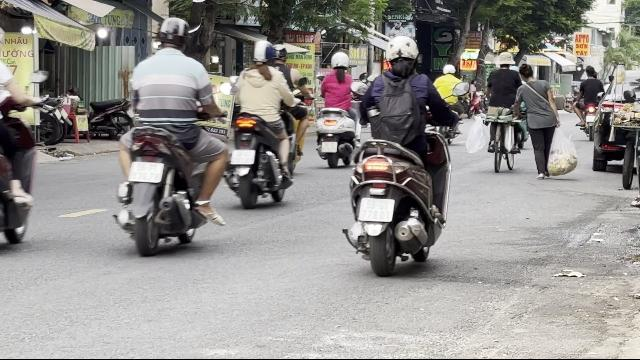helmet: (384, 36, 420, 74), (156, 16, 192, 52), (252, 40, 276, 66), (329, 51, 349, 71), (273, 43, 287, 63)
licenseplate: (358, 198, 394, 221), (130, 162, 162, 182), (231, 150, 255, 164), (322, 142, 336, 152)
motorcyclist: (338, 34, 458, 276), (111, 16, 233, 254), (225, 38, 303, 209), (313, 50, 362, 168)
nohelmet: (496, 52, 514, 68)
